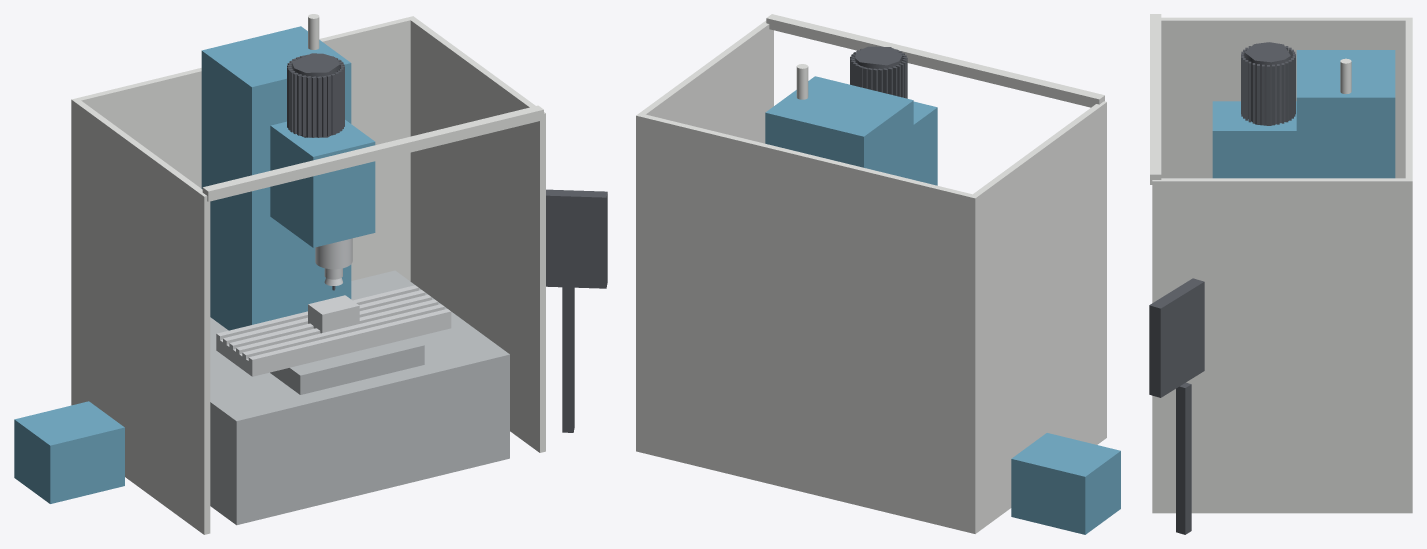
File: cnc-machine-lod1.glb
The picture shows the model from 3 angles, left to right: view 1: azimuth 30°, elevation 25°; view 2: azimuth 150°, elevation 25°; view 3: azimuth 270°, elevation 25°; orthographic projection.
Visible parts, largest first — view 1: enclosure, base, column, table, head, coolant, panel, motor, saddle, workpiece, bearing; view 2: enclosure, column, coolant, motor, head; view 3: enclosure, column, panel, head, motor, lamp.
Boxes of the visible parts, x1,y1,x2,y2 form: enclosure: [71, 16, 545, 534]; base: [210, 270, 509, 525]; column: [201, 26, 351, 330]; table: [216, 285, 451, 376]; head: [270, 120, 375, 247]; coolant: [14, 401, 124, 503]; panel: [546, 189, 607, 432]; motor: [287, 53, 344, 137]; saddle: [270, 337, 424, 394]; workpiece: [308, 295, 359, 333]; bearing: [315, 238, 352, 269]; enclosure: [636, 14, 1106, 533]; column: [765, 76, 913, 179]; coolant: [1011, 433, 1120, 534]; motor: [850, 46, 907, 98]; head: [913, 101, 937, 185]; enclosure: [1150, 14, 1412, 513]; column: [1296, 50, 1395, 178]; panel: [1149, 278, 1204, 534]; head: [1212, 101, 1296, 178]; motor: [1241, 42, 1295, 125]; lamp: [1340, 58, 1351, 94].
Size of the model in its own units: 3.96 by 3.04 by 1.87.
